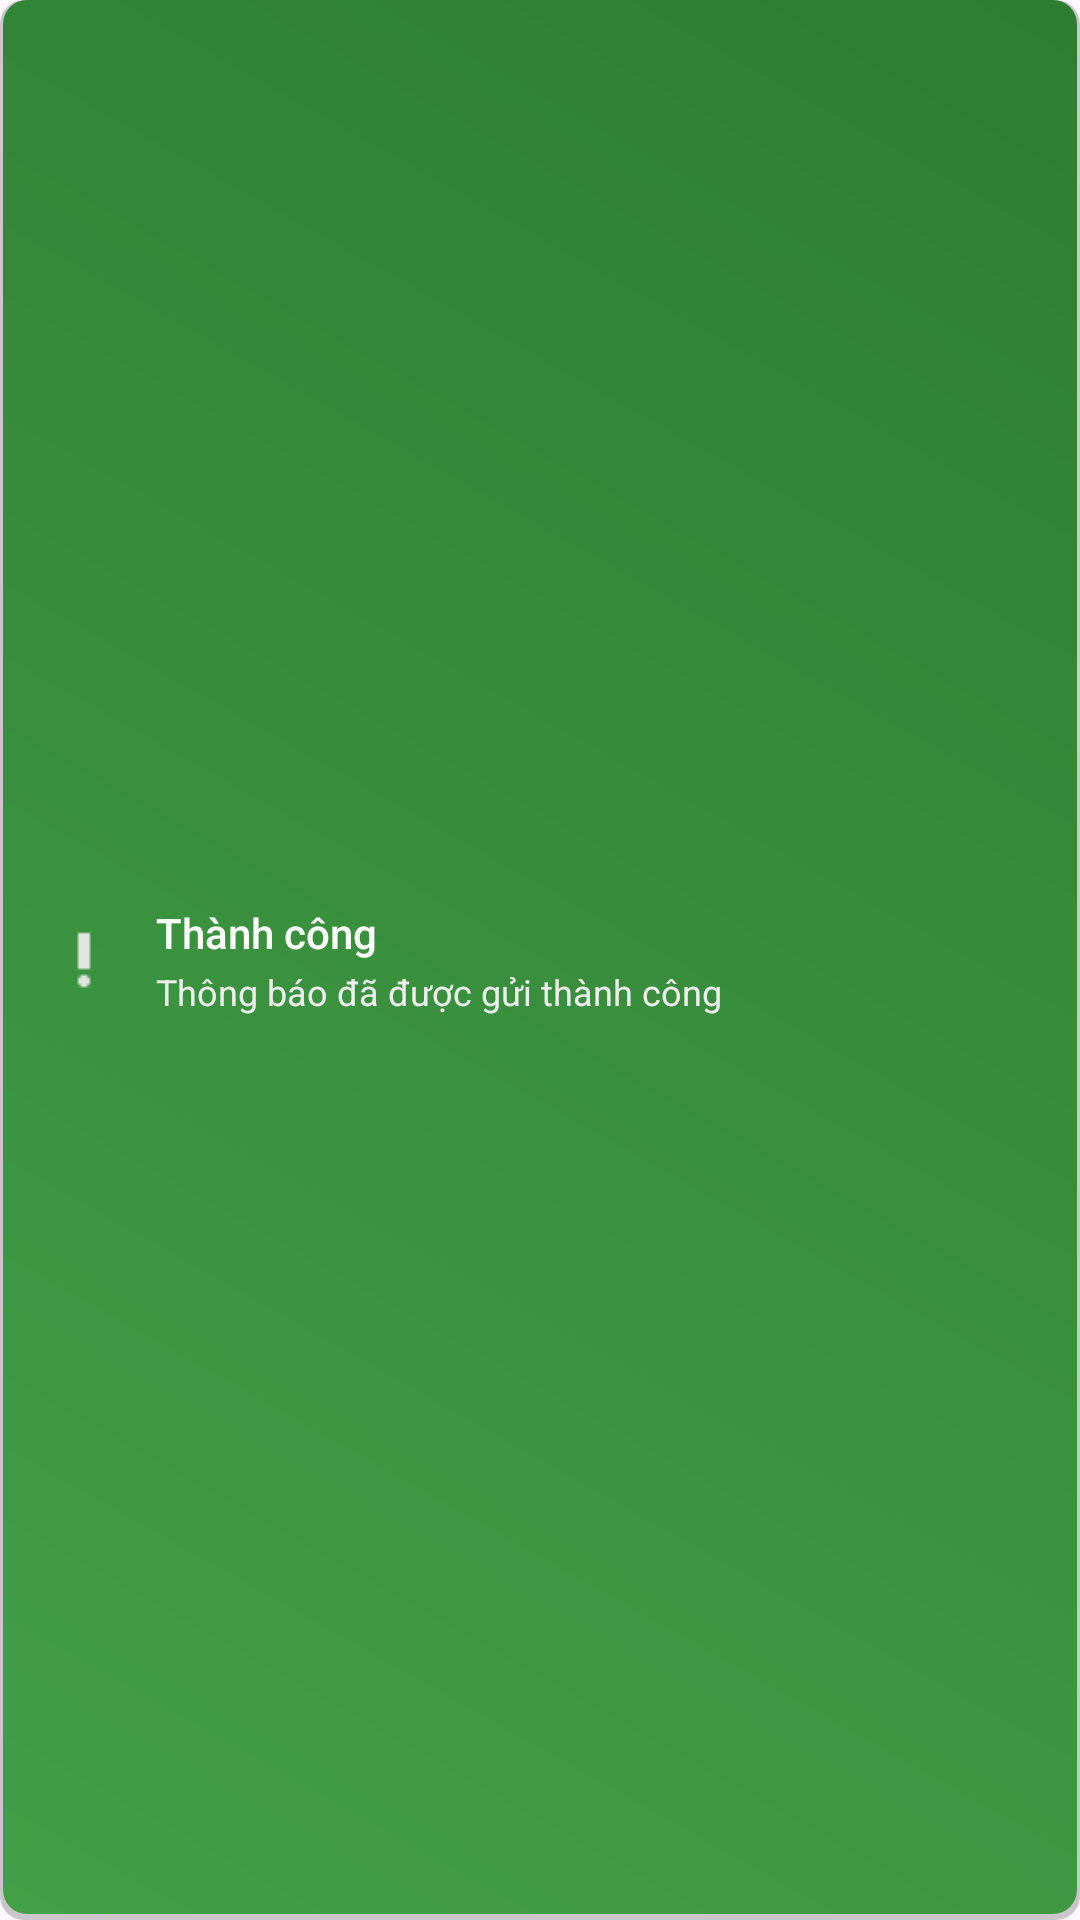

Where icons sit on this 1080x1920 app screen, as [x1,y1,x2,y2]:
priority: [77,932,91,988]
